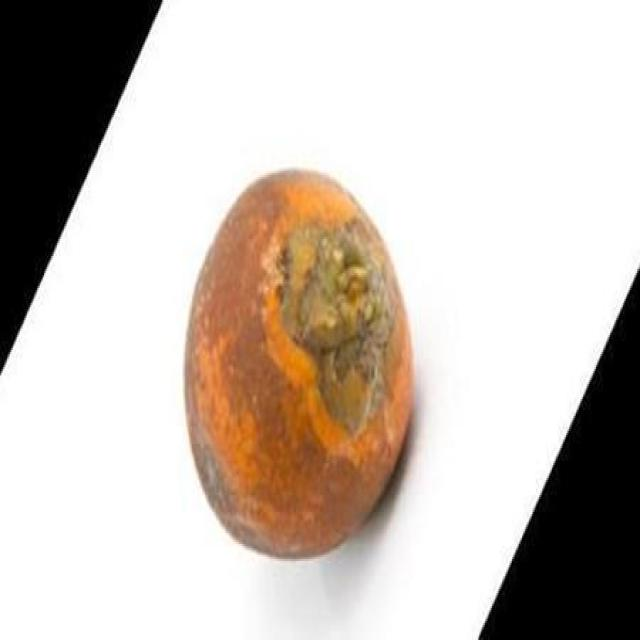good: (182, 171, 415, 561)
